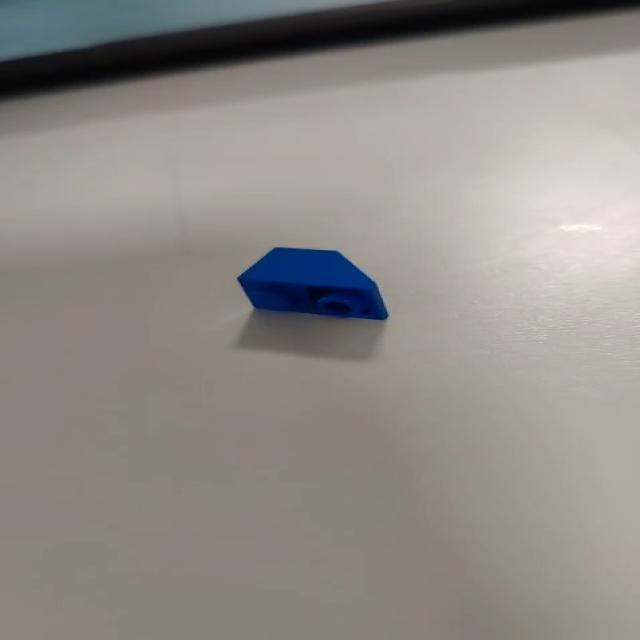X1x2x1: (232, 242, 403, 330)
